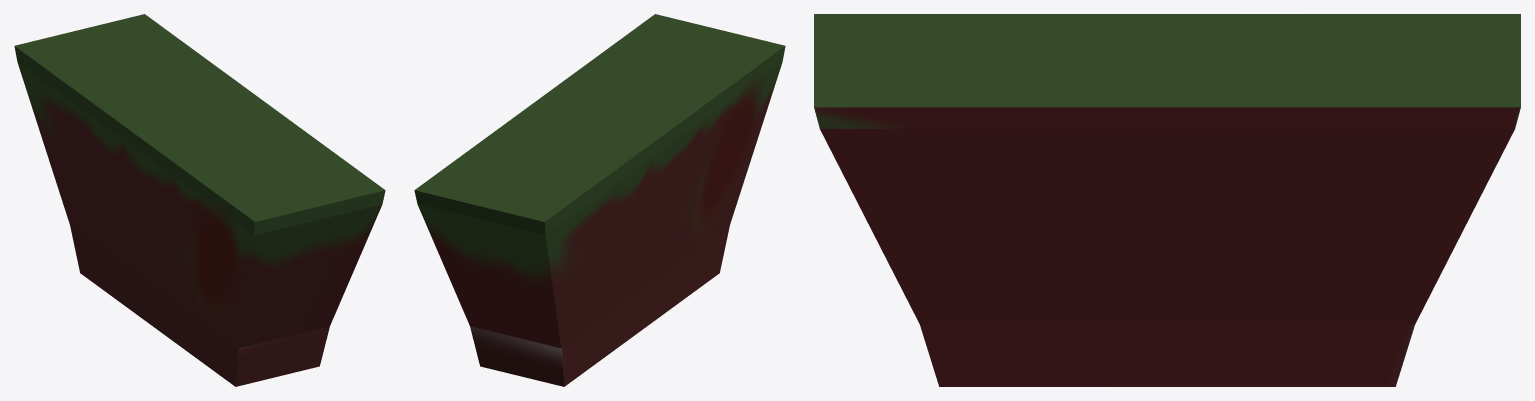
Rendered from Platform_med_weird.obj.
3 renders of one model, left to right at view 1: azimuth 30°, elevation 25°; view 2: azimuth 150°, elevation 25°; view 3: azimuth 270°, elevation 25°, orthographic. The views are drawn at different scales.
Parts seen in each view (by area): view 1: Floating_Platform; view 2: Floating_Platform; view 3: Floating_Platform.
Part boxes in pixels (x1,y1,x2,y2): Floating_Platform: (14,14,385,386); Floating_Platform: (414,14,785,386); Floating_Platform: (814,14,1520,386).
Size of the model in its own units: 2.33 by 3.45 by 7.46.
